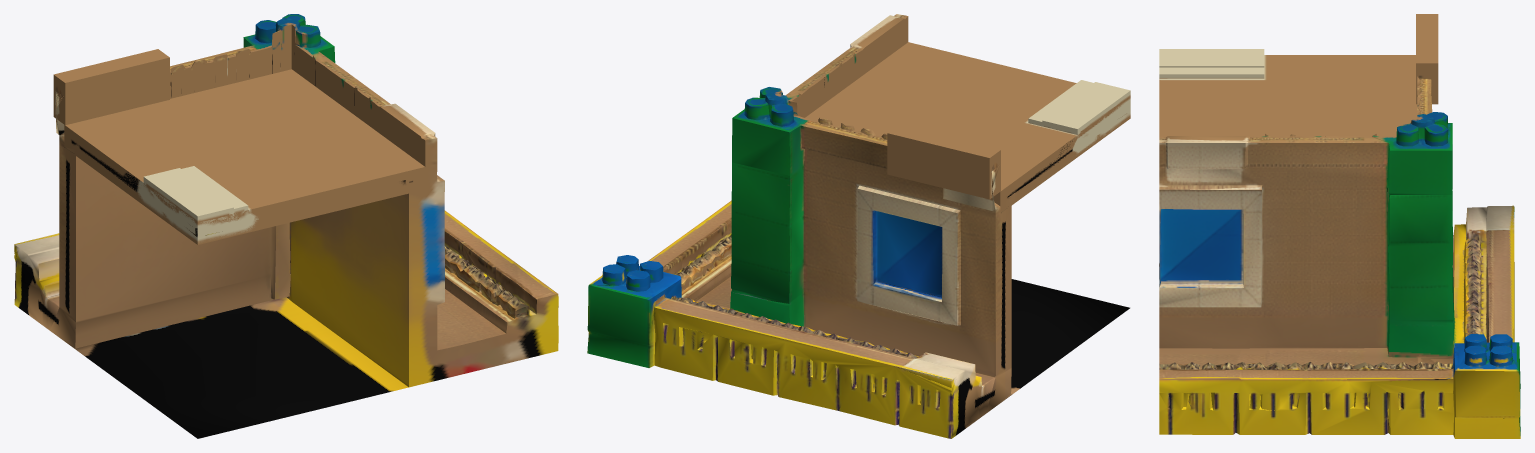
File: 16-topper-back-right.fbx
The picture shows the model from 3 angles, left to right: view 1: azimuth 30°, elevation 25°; view 2: azimuth 150°, elevation 25°; view 3: azimuth 270°, elevation 25°; orthographic projection. The views are drawn at different scales.
Parts seen in each view (by area): view 1: topper-back-right; view 2: topper-back-right; view 3: topper-back-right.
Boxes of the visible parts, x1,y1,x2,y2 form: topper-back-right: (14,14,558,438); topper-back-right: (587,14,1130,438); topper-back-right: (1159,14,1520,438).
Size of the model in its own units: 5119 by 3459 by 4481.
Materials: 1 (1 with a texture image).
